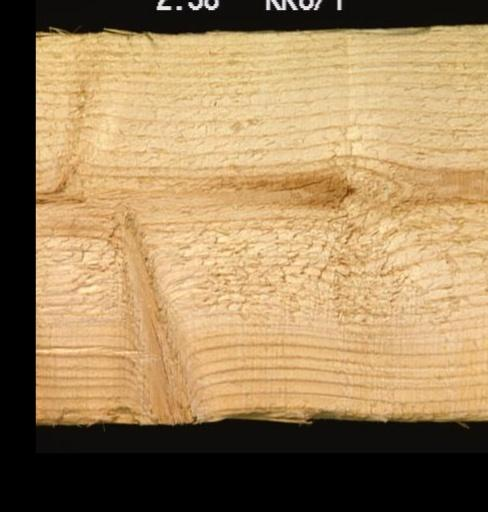wave: (35, 389, 409, 427)
